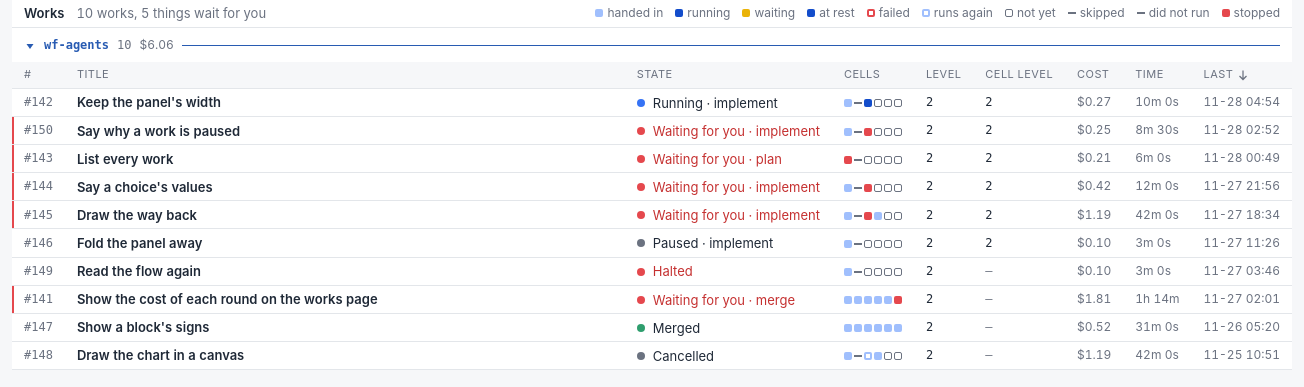
Test: the list of works › orders the list by the column whose head is pressed, a second press turning it, and keeps the order in the browser
Later steps or results of the test are not shown.
Click the button "#" at (38, 75), box [12, 62, 65, 88]
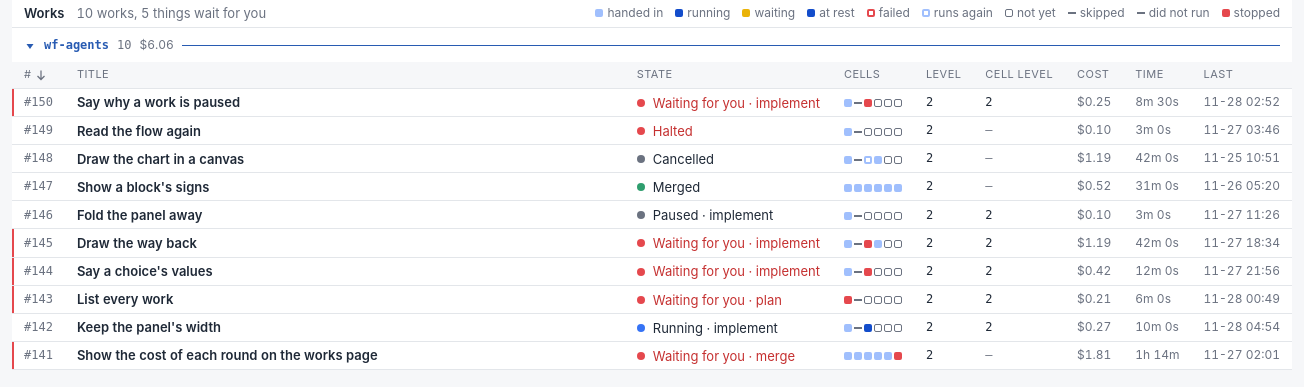
Check: the column heading "#" has attribute aria-sort="descending", box [12, 62, 65, 89]
